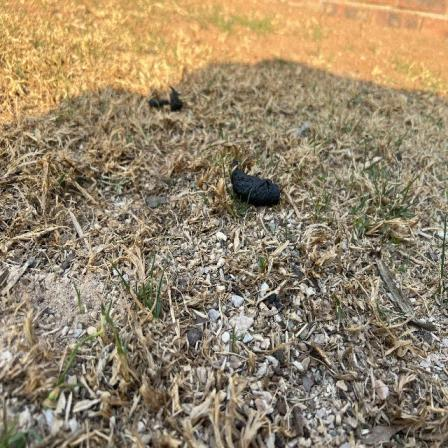dog-poop: (229, 156, 282, 208), (149, 83, 186, 114)
